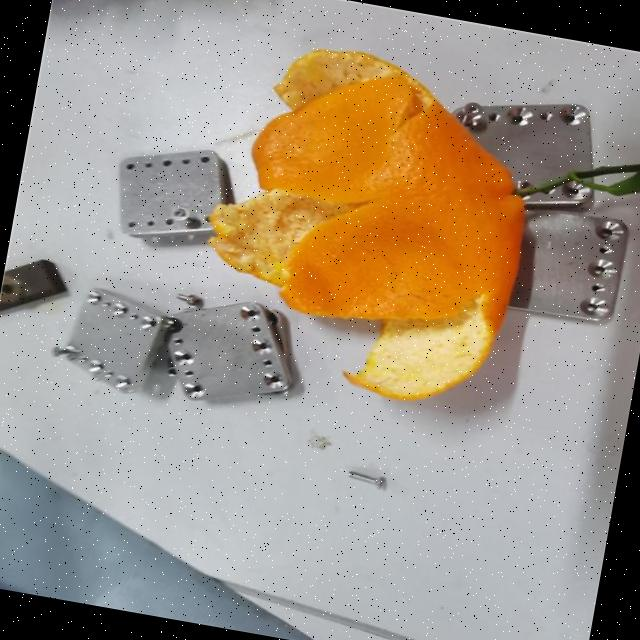orange-peel: (185, 31, 552, 417)
